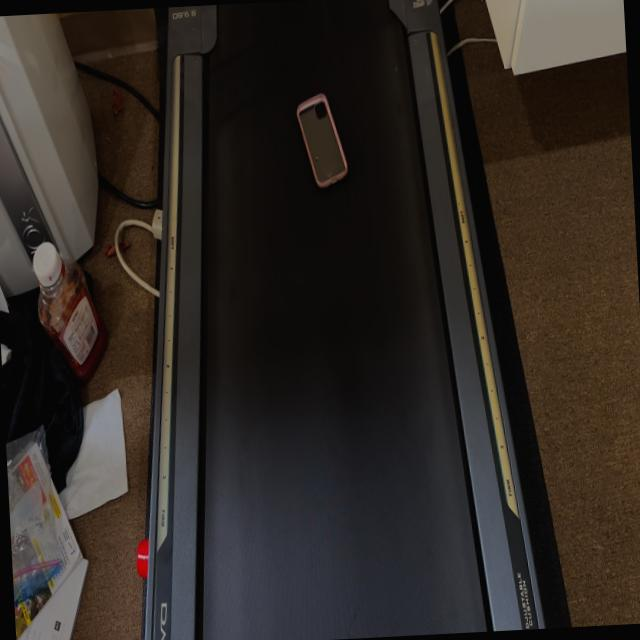Trash: (292, 90, 350, 190)
